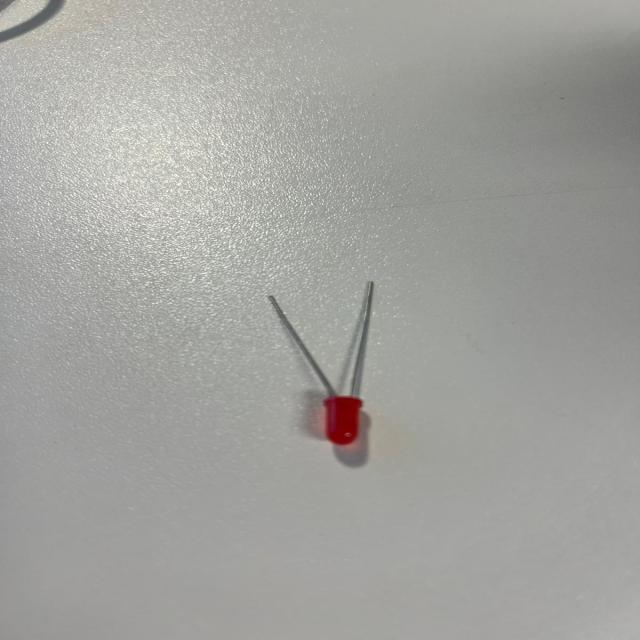REDLed: (259, 297, 405, 455)
